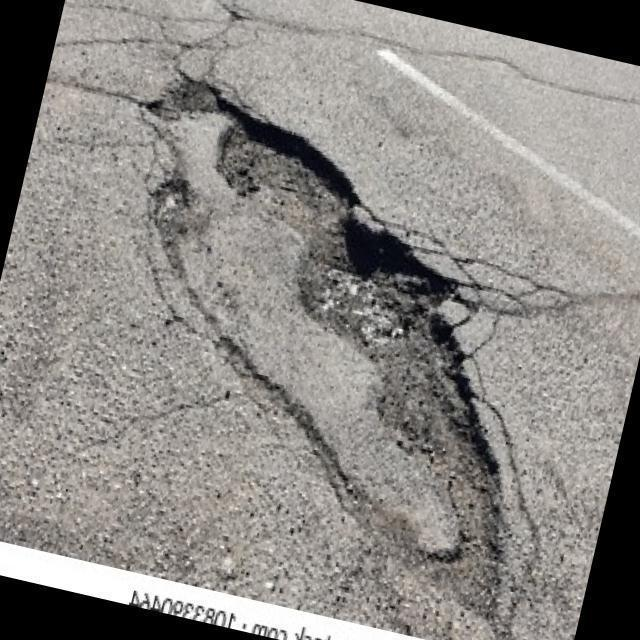pothole: (53, 62, 617, 623)
